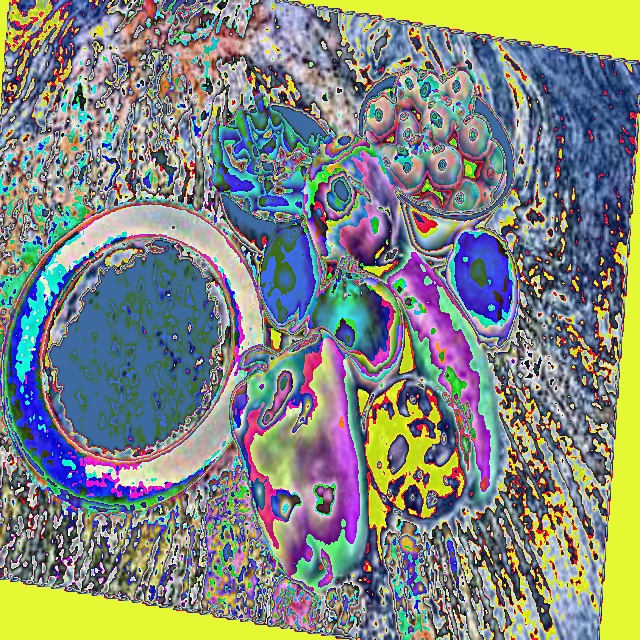background: (210, 64, 521, 595), (47, 214, 223, 451)
